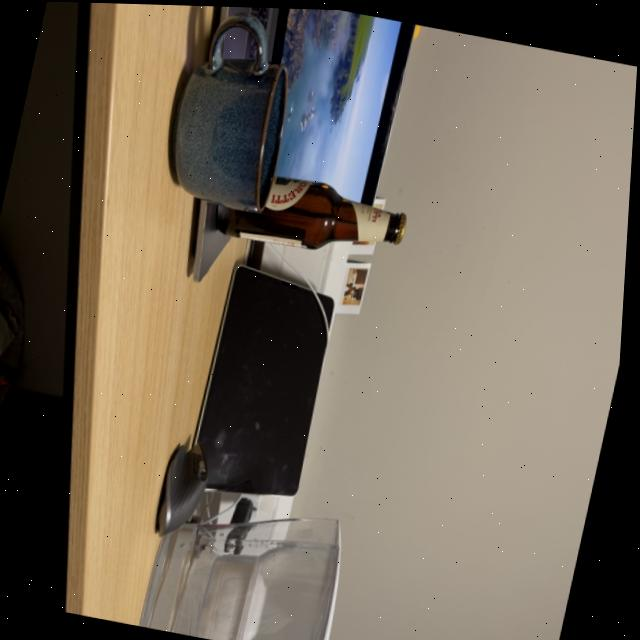beer: (199, 156, 423, 270)
